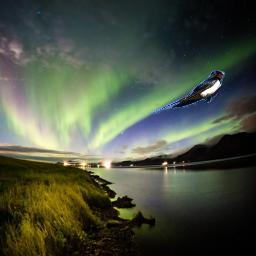Swallow: (151, 70, 225, 114)
